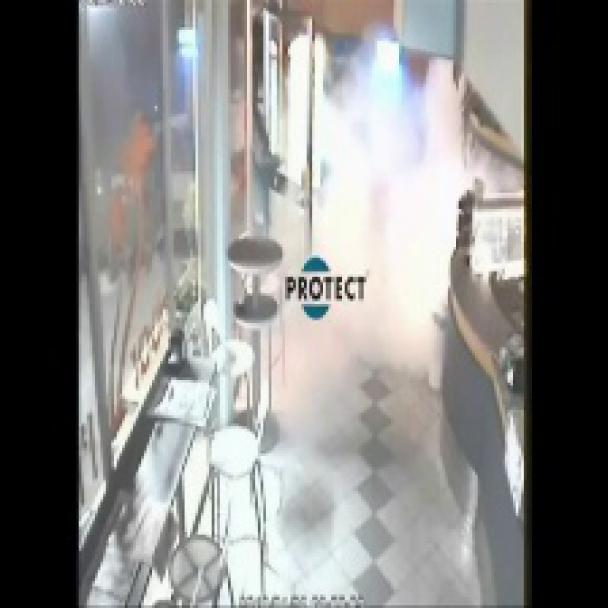smoke: (240, 25, 505, 378)
